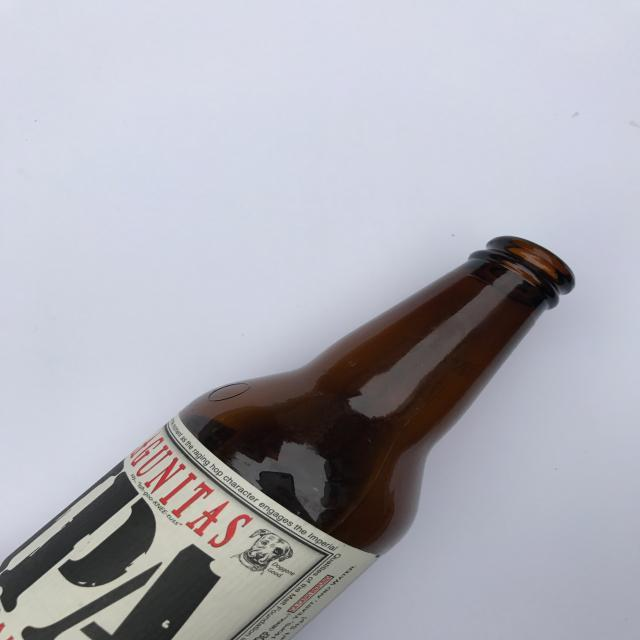glass: (1, 235, 576, 640)
